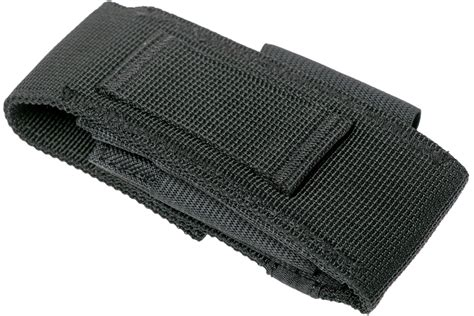nylon: (5, 1, 468, 316)
